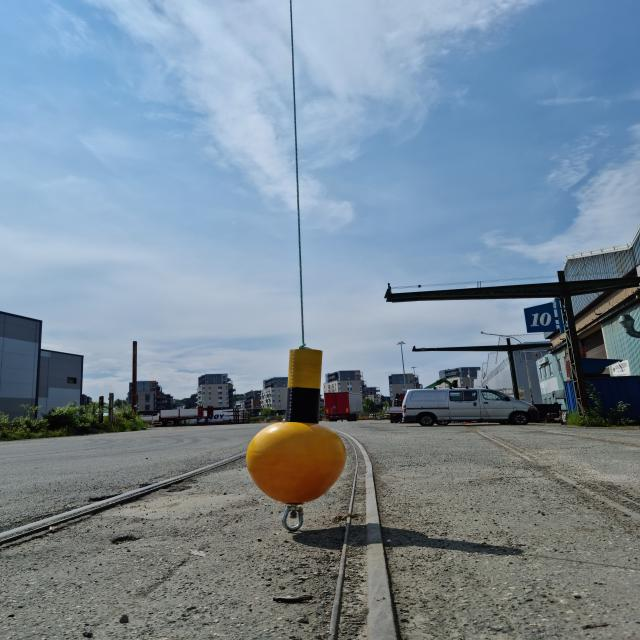west: (247, 350, 346, 502)
